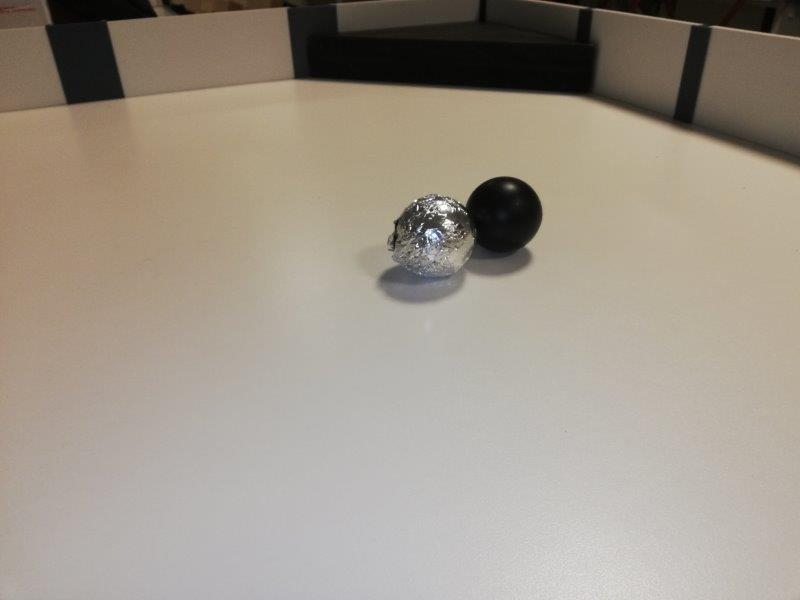bianca: (388, 192, 474, 277)
nera: (467, 175, 542, 255)
